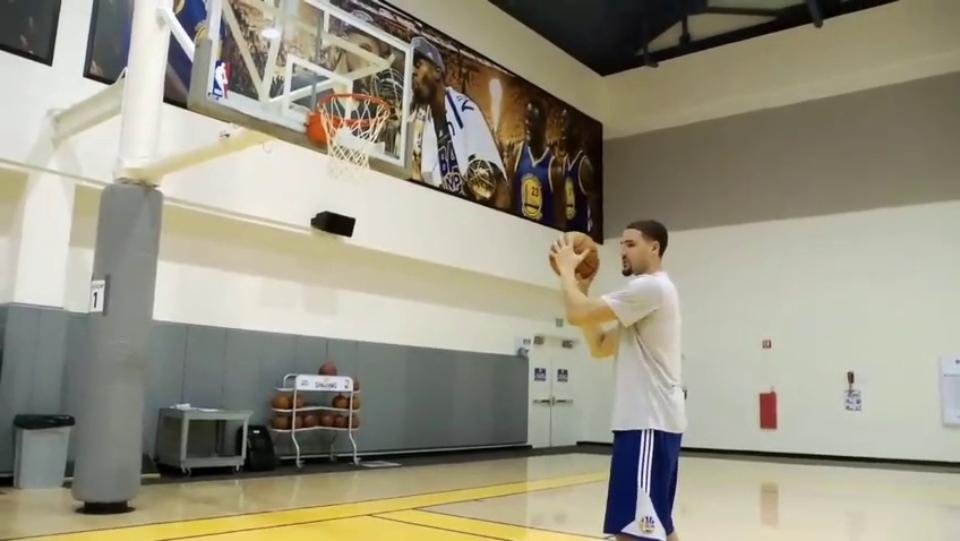hoop: (315, 92, 395, 129)
